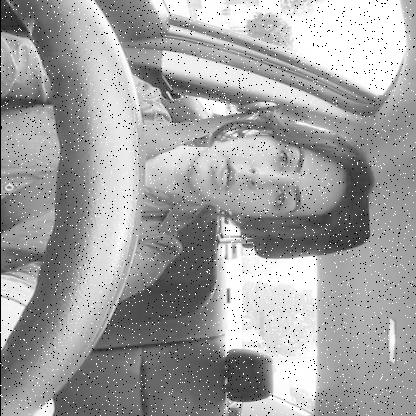seatbelt: (0, 98, 387, 258)
